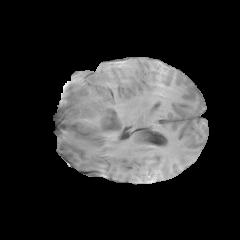glioma: (58, 62, 124, 140)
